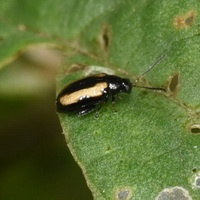insect: (56, 73, 131, 115)
